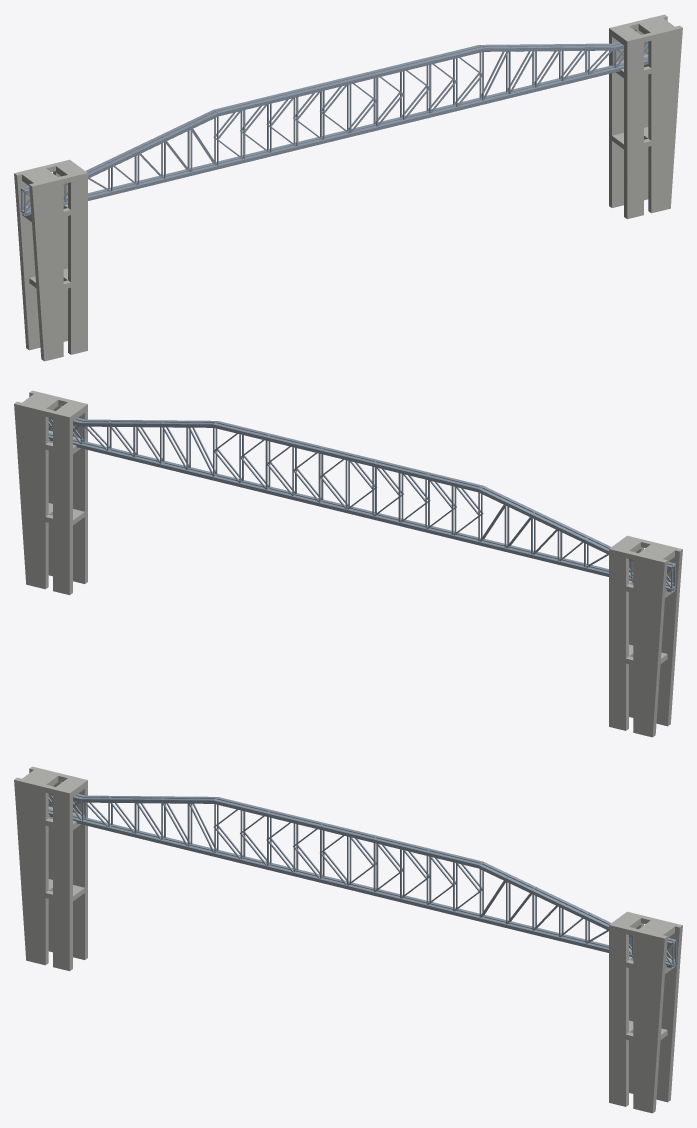
Rendered from portal-demerval.glb.
3 renders of one model, top to bottom at view 1: azimuth 30°, elevation 25°; view 2: azimuth 150°, elevation 25°; view 3: azimuth 330°, elevation 25°, orthographic.
Parts seen in each view (by area): view 1: concreto, aco; view 2: concreto, aco; view 3: concreto, aco.
Part boxes in pixels (left/top/right/bottom): concreto: left=14, top=14, right=682, bottom=361; aco: left=20, top=41, right=648, bottom=216; concreto: left=14, top=390, right=682, bottom=737; aco: left=48, top=417, right=676, bottom=592; concreto: left=14, top=766, right=682, bottom=1113; aco: left=48, top=793, right=676, bottom=968.
Bounding box in the file's own units: 26.9 × 7.85 × 1.3.
